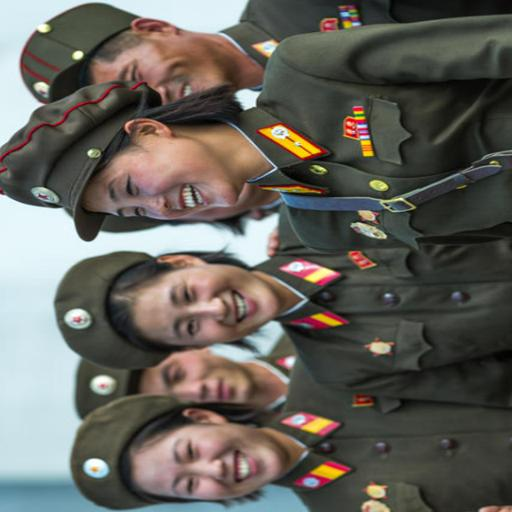north army: (41, 11, 512, 500)
